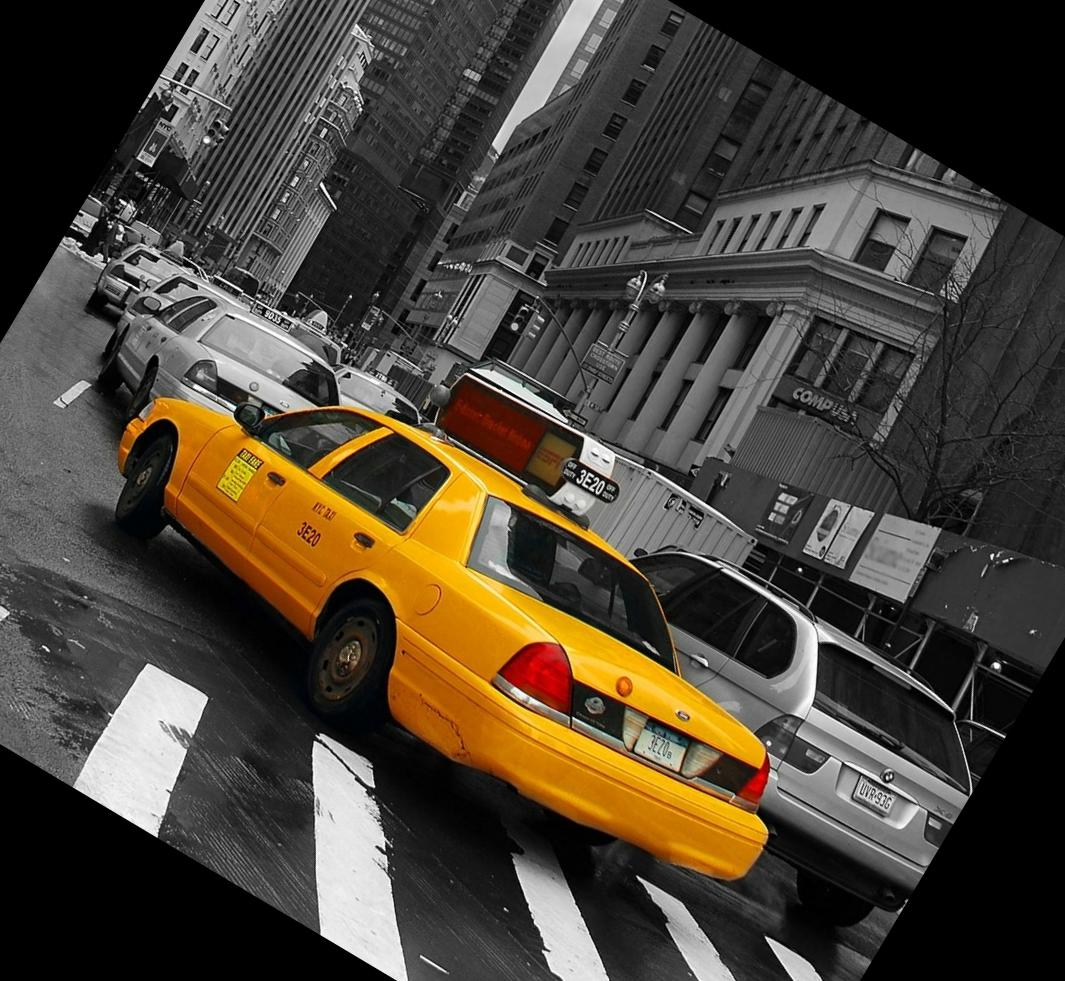taxi: (107, 376, 762, 894)
